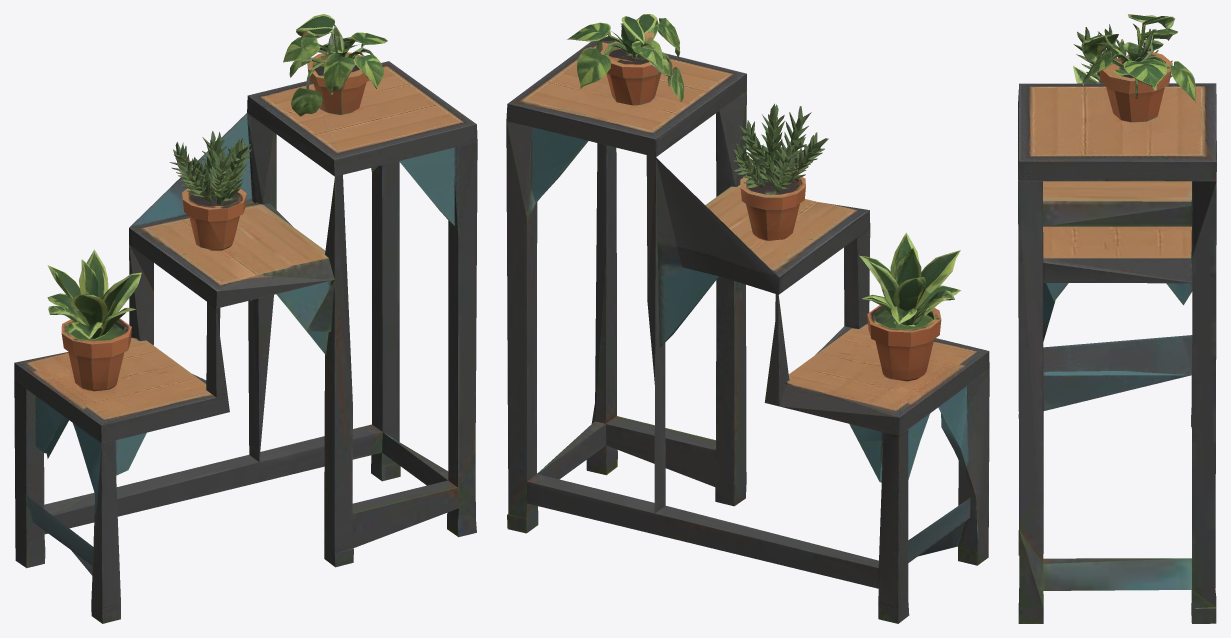
File: model-lounge-redesign-plantStand-98e49c4db502.glb
3 views of the same model, side by side, from view 1: azimuth 30°, elevation 25°; view 2: azimuth 150°, elevation 25°; view 3: azimuth 270°, elevation 25° (orthographic). The views are drawn at different scales.
Visible parts, largest first — view 1: Mesh_0; view 2: Mesh_0; view 3: Mesh_0.
Boxes of the visible parts, x1,y1,x2,y2 form: Mesh_0: (14, 14, 477, 623); Mesh_0: (506, 14, 989, 623); Mesh_0: (1018, 14, 1216, 623).
Bounding box in the file's own units: 0.7 × 0.8554 × 0.2765.
1 material, 1 textured.
